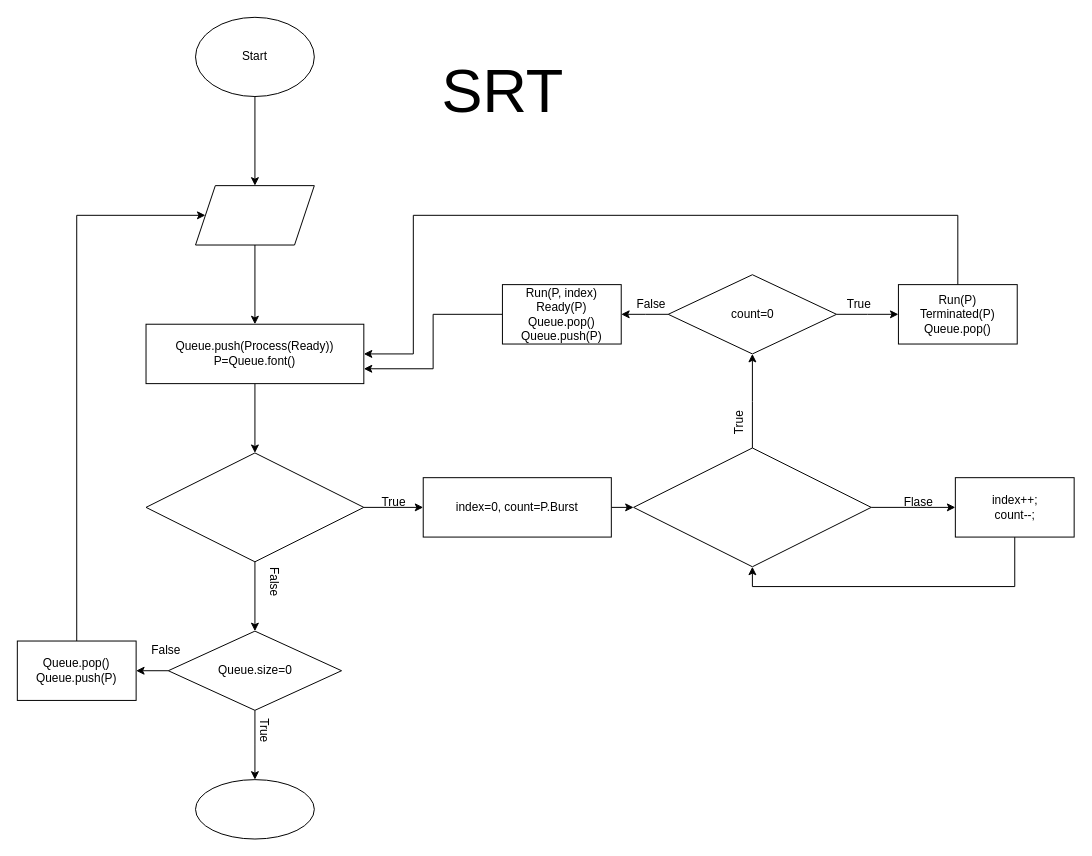
This 1092x856 diagram has some shape labels left out. Each missing label, with the centre of its shape:
"count>Min[Queue(i).Burst,...] || count=0" belongs at point 752,507.
"End" belongs at point 254,809.
"Input Process" belongs at point 254,215.
"P=Min[Queue(i).Burst,...] && Queue.size()!=0" belongs at point 254,507.
